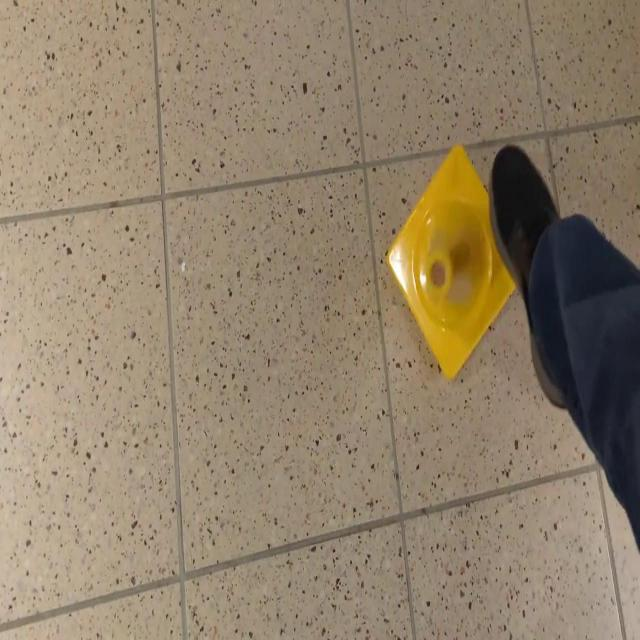frc_cone: (384, 142, 518, 384)
